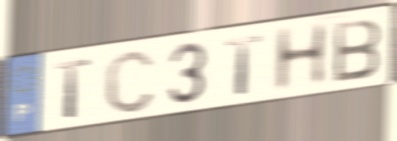3: (165, 39, 209, 107)
B: (331, 15, 384, 85)
C: (102, 46, 158, 116)
H: (270, 19, 331, 96)
T: (222, 32, 266, 98), (53, 56, 94, 120)
